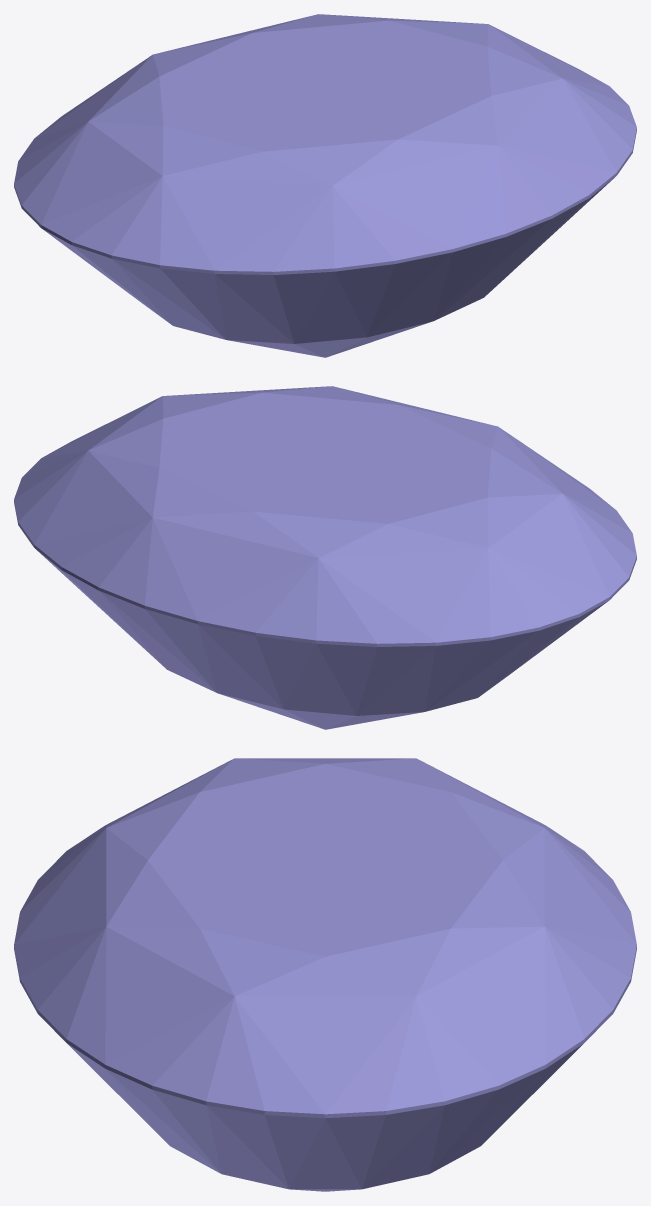
Rendered from jewelry.glb.
3 renders of one model, top to bottom at view 1: azimuth 30°, elevation 25°; view 2: azimuth 150°, elevation 25°; view 3: azimuth 270°, elevation 25°, orthographic. The views are drawn at different scales.
Visible parts, largest first — view 1: Gemstone Iolite; view 2: Gemstone Iolite; view 3: Gemstone Iolite.
Part boxes in pixels (left/top/right/bottom): Gemstone Iolite: left=14, top=14, right=636, bottom=357; Gemstone Iolite: left=14, top=386, right=636, bottom=729; Gemstone Iolite: left=14, top=758, right=636, bottom=1191.
Size of the model in its own units: 2.2 by 1 by 1.71.
